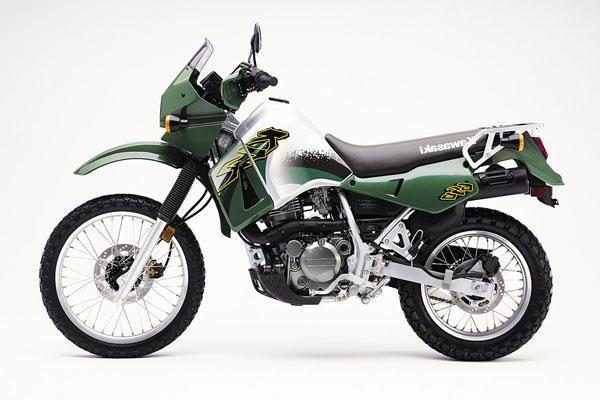motorcycle: (26, 17, 575, 378)
